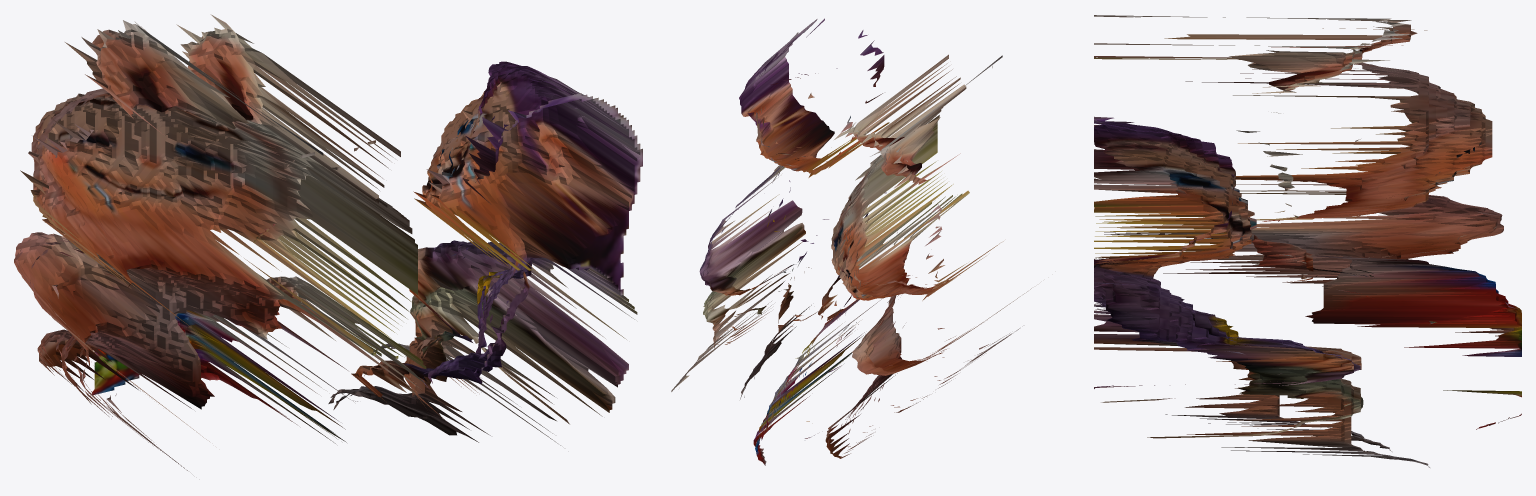
The model's file is frame_00417.glb.
The picture shows the model from 3 angles, left to right: view 1: azimuth 30°, elevation 25°; view 2: azimuth 150°, elevation 25°; view 3: azimuth 270°, elevation 25°; orthographic projection. The views are drawn at different scales.
Parts seen in each view (by area): view 1: geometry_0; view 2: geometry_0; view 3: geometry_0.
Boxes of the visible parts, x1,y1,x2,y2 form: geometry_0: (14, 14, 642, 470); geometry_0: (671, 18, 1031, 465); geometry_0: (1094, 15, 1521, 467).
Size of the model in its own units: 0.1486 by 0.1505 by 0.16.
Materials: 1 (1 with a texture image).
